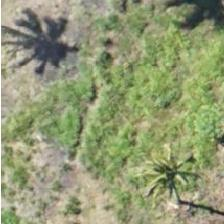coconut_tree: (126, 118, 216, 208)
